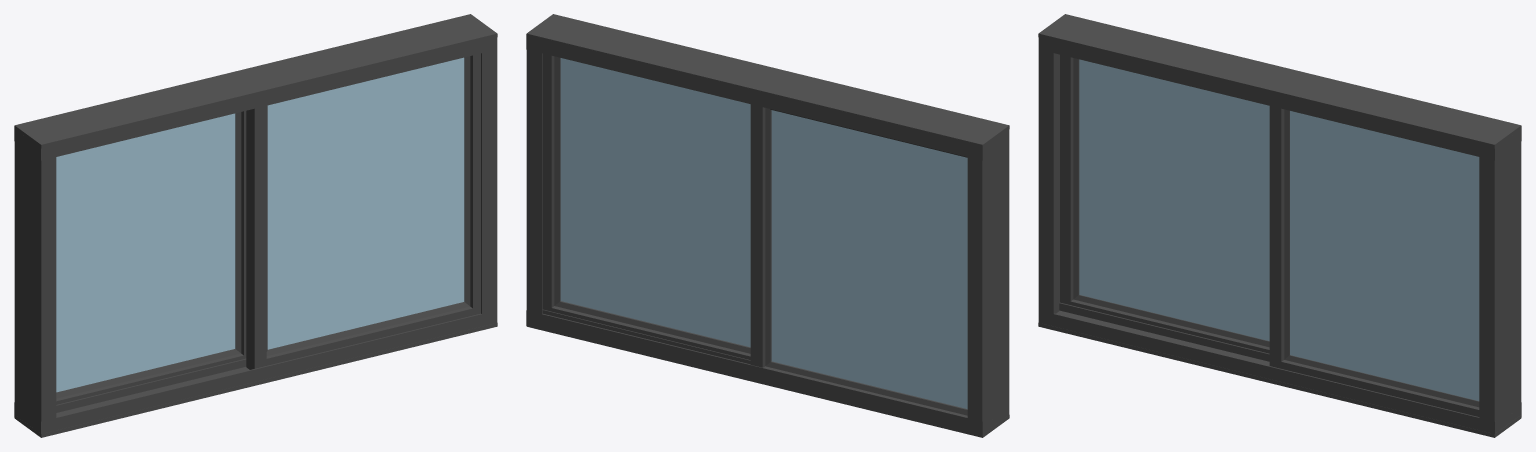
File: window.fbx
3 views of the same model, side by side, from view 1: azimuth 30°, elevation 25°; view 2: azimuth 150°, elevation 25°; view 3: azimuth 330°, elevation 25° (orthographic).
Parts seen in each view (by area): view 1: Cube.007; view 2: Cube.007; view 3: Cube.007.
Part boxes in pixels (bbox=[...]): Cube.007: bbox=[14, 14, 497, 437]; Cube.007: bbox=[526, 14, 1009, 437]; Cube.007: bbox=[1038, 14, 1521, 437].
Bounding box in the file's own units: 3874 × 2378 × 393.
